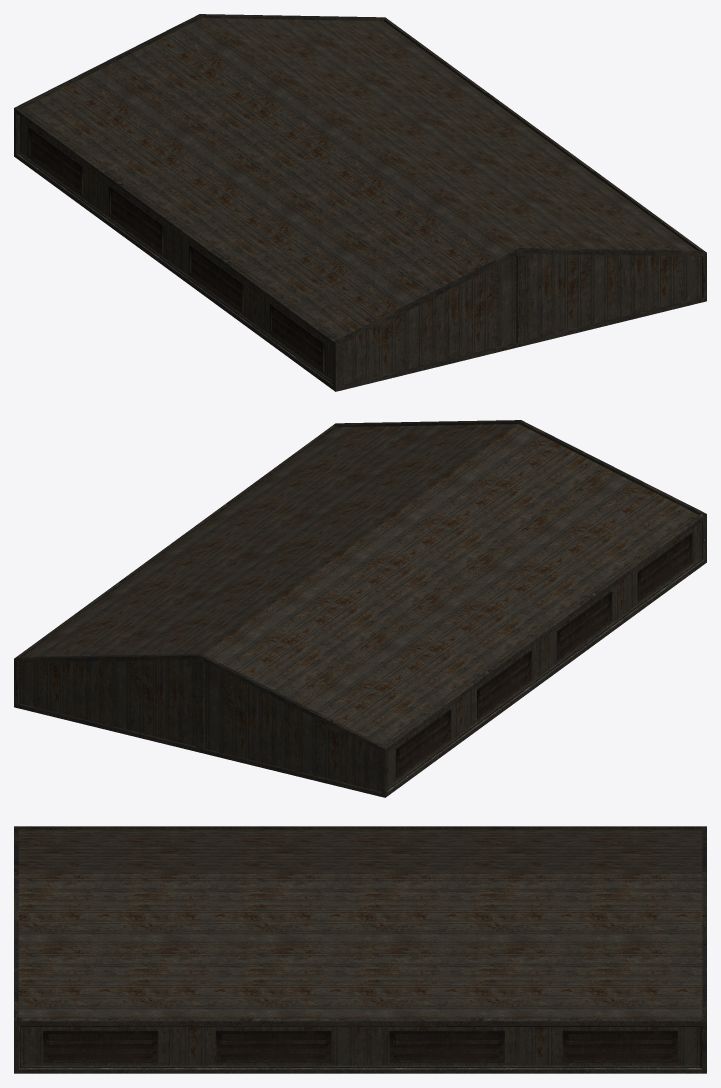
Rendered from roof_mh_4_b_3.glb.
3 renders of one model, top to bottom at view 1: azimuth 30°, elevation 25°; view 2: azimuth 150°, elevation 25°; view 3: azimuth 270°, elevation 25°, orthographic. The views are drawn at different scales.
Parts seen in each view (by area): view 1: roof_mh_4_b_3; view 2: roof_mh_4_b_3; view 3: roof_mh_4_b_3.
Part boxes in pixels (x1=…): roof_mh_4_b_3: x1=14, y1=14, x2=706, y2=391; roof_mh_4_b_3: x1=14, y1=420, x2=706, y2=797; roof_mh_4_b_3: x1=14, y1=826, x2=706, y2=1073.
Size of the model in its own units: 8 by 2 by 12.
Materials: 6 (6 with a texture image).
